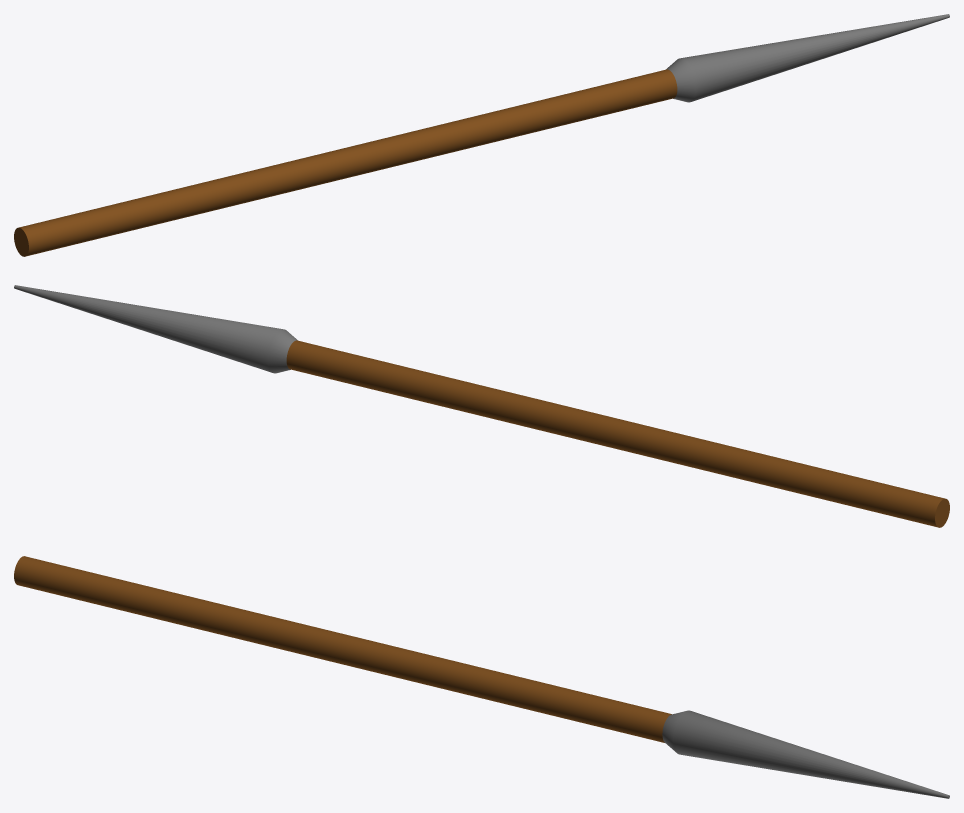
Rendered from LOWPOLYMIZRAK.fbx.
3 views of the same model, one above another, from view 1: azimuth 30°, elevation 25°; view 2: azimuth 150°, elevation 25°; view 3: azimuth 330°, elevation 25° (orthographic).
Parts seen in each view (by area): view 1: MIZRAK; view 2: MIZRAK; view 3: MIZRAK.
Boxes of the visible parts, x1,y1,x2,y2 form: MIZRAK: [14, 14, 949, 256]; MIZRAK: [14, 285, 949, 527]; MIZRAK: [14, 556, 949, 798].
Bounding box in the file's own units: 1073 × 45.41 × 45.41.
